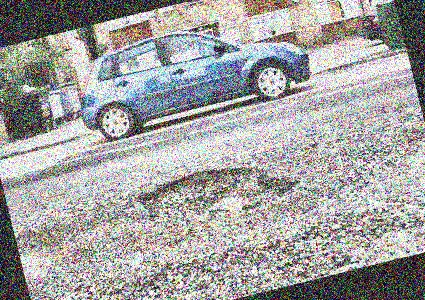pothole: (133, 147, 302, 237)
